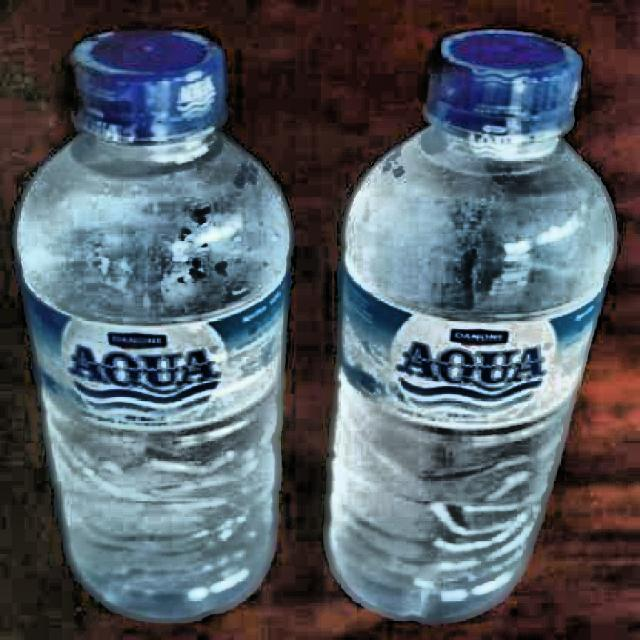plastic bottle: (328, 29, 617, 622), (15, 31, 292, 622)
